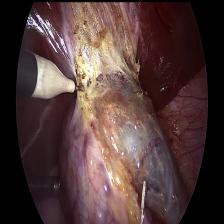Hook: (27, 43, 85, 102)
